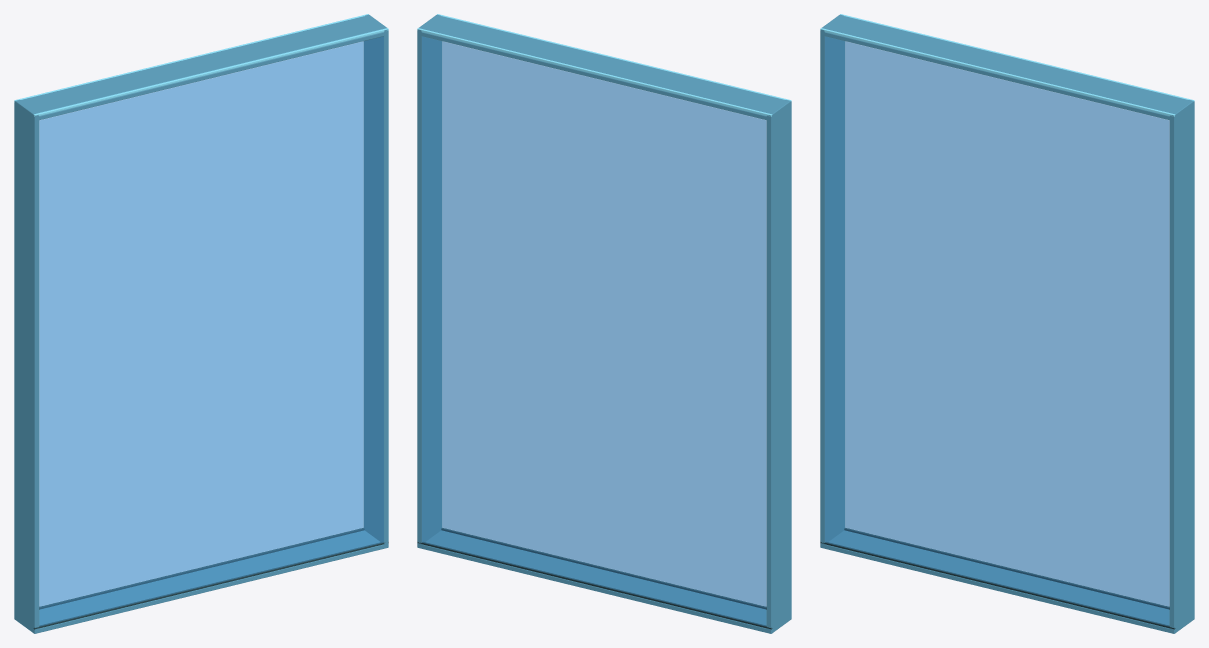
The model's file is SM_VR_Wall_EastGridSideA.fbx.
3 views of the same model, side by side, from view 1: azimuth 30°, elevation 25°; view 2: azimuth 150°, elevation 25°; view 3: azimuth 330°, elevation 25° (orthographic).
Visible parts, largest first — view 1: SM_VR_Wall_EastGridSideA; view 2: SM_VR_Wall_EastGridSideA; view 3: SM_VR_Wall_EastGridSideA.
Part boxes in pixels (<box>): SM_VR_Wall_EastGridSideA: <box>14,14,388,633</box>; SM_VR_Wall_EastGridSideA: <box>417,14,791,633</box>; SM_VR_Wall_EastGridSideA: <box>820,14,1194,633</box>.
Bounding box in the file's own units: 200 × 20 × 280.
